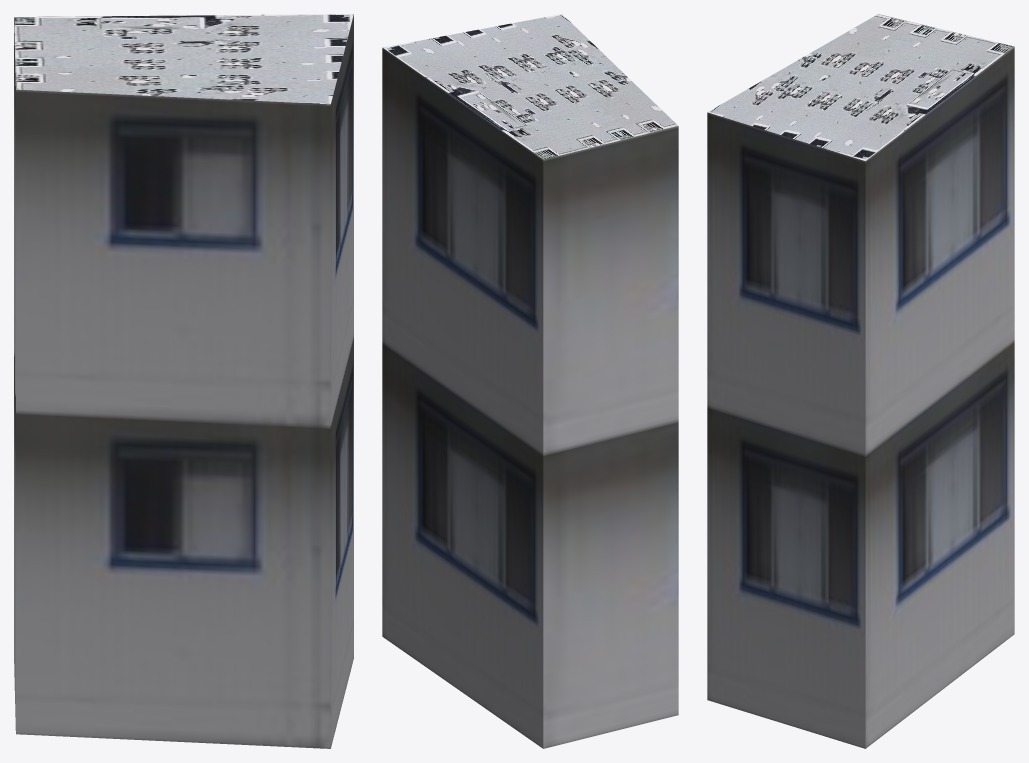
The model's file is ResTex__3582.fbx.
The picture shows the model from 3 angles, left to right: view 1: azimuth 30°, elevation 25°; view 2: azimuth 150°, elevation 25°; view 3: azimuth 270°, elevation 25°; orthographic projection. The views are drawn at different scales.
Visible parts, largest first — view 1: CityEngineMaterial_9_m, CityEngineMaterial_m; view 2: CityEngineMaterial_9_m, CityEngineMaterial_m; view 3: CityEngineMaterial_9_m, CityEngineMaterial_m.
Boxes of the visible parts, x1,y1,x2,y2 form: CityEngineMaterial_9_m: (14, 14, 353, 748); CityEngineMaterial_m: (14, 14, 353, 104); CityEngineMaterial_9_m: (382, 48, 678, 748); CityEngineMaterial_m: (382, 14, 677, 159); CityEngineMaterial_9_m: (707, 47, 1014, 748); CityEngineMaterial_m: (707, 14, 1014, 160).
Bounding box in the file's own units: 3.22 × 6 × 2.84.
Materials: 2 (2 with a texture image).
